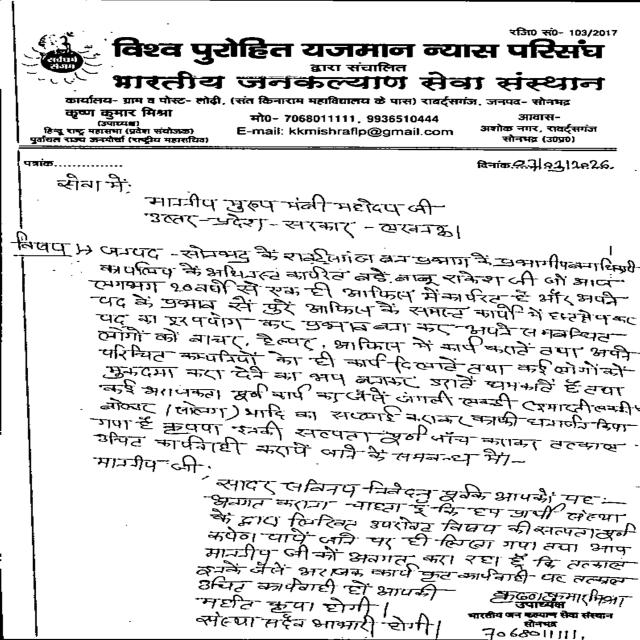letterhead: (19, 4, 624, 149)
